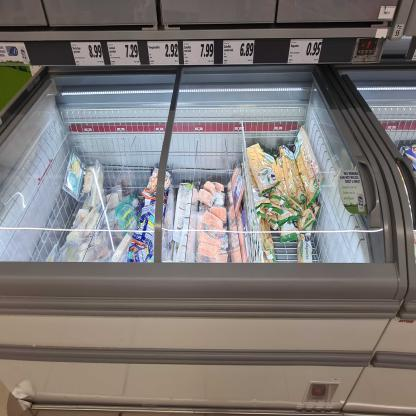prtg: (288, 40, 324, 65), (71, 43, 106, 67), (108, 42, 141, 66), (148, 42, 180, 66), (184, 42, 215, 66), (224, 41, 255, 65)
